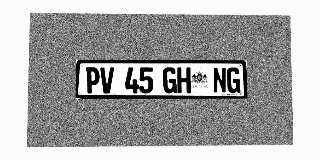4: (125, 67, 139, 93)
5: (139, 67, 153, 93)
G: (163, 67, 177, 93), (227, 67, 240, 93)
H: (177, 67, 191, 93)
N: (213, 67, 227, 93)
P: (85, 67, 100, 93)
V: (100, 67, 114, 93)
